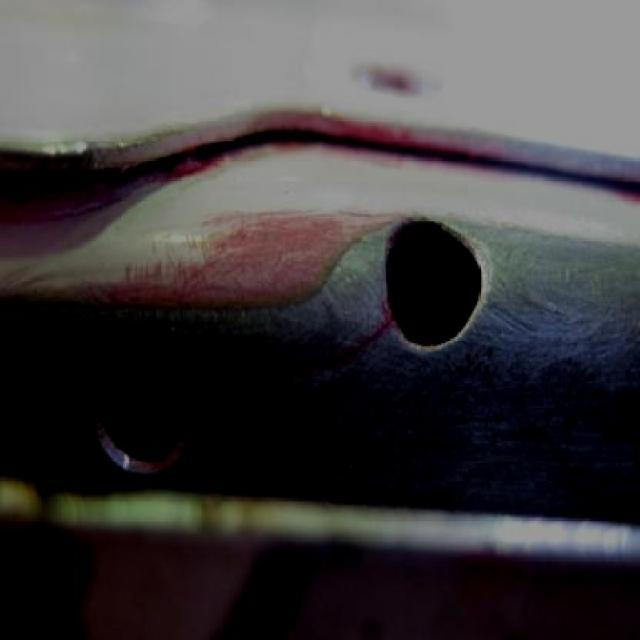crack: (355, 318, 397, 352)
